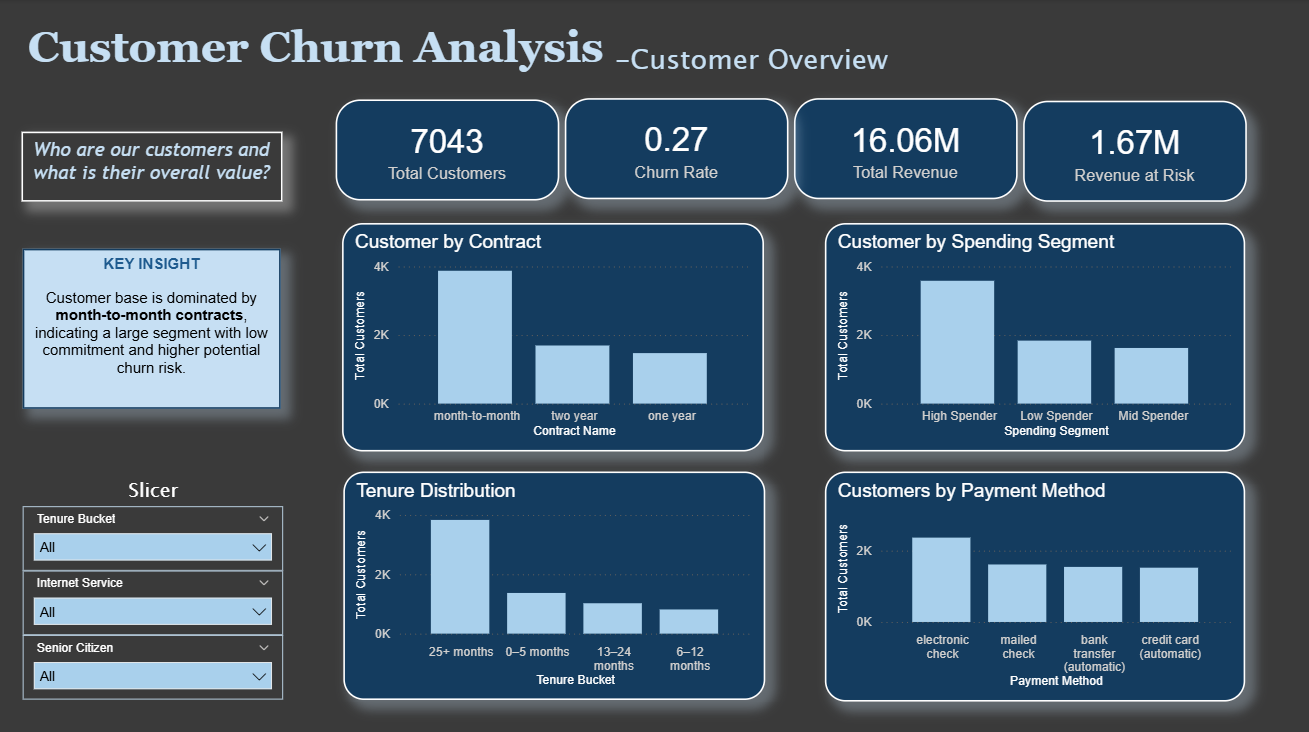

Layout of this report page (visuals, bound fields, positions):
{"tool":"powerbi","page":{"name":"Customer Overview","canvas":[1280,720],"ordinal":0},"visuals":[{"type":"textbox","box":[24.7,18.2,871.4,79.2],"z":0},{"type":"card","fields":{"Values":["public churn_dashboard_dataset.Total Revenue"]},"box":[777.8,97.3,218,98.5],"z":1000},{"type":"card","fields":{"Values":["public churn_dashboard_dataset.Total Customers"]},"box":[330.8,97.6,218,98.5],"z":2000},{"type":"card","fields":{"Values":["public churn_dashboard_dataset.Churn Rate"]},"box":[554.1,96.7,218,98.3],"z":3000},{"type":"card","fields":{"Values":["public churn_dashboard_dataset.Revenue at Risk"]},"box":[1000.5,98.8,218,98.5],"z":4000},{"type":"clusteredColumnChart","title":"Customer by Contract","fields":{"Category":["public churn_dashboard_dataset.contract_name"],"Y":["public churn_dashboard_dataset.Total Customers"]},"box":[336.1,218,411.5,223],"z":5000},{"type":"clusteredColumnChart","title":"Customer by Spending Segment","fields":{"Y":["public churn_dashboard_dataset.Total Customers"],"Category":["public churn_dashboard_dataset.spending_segment"]},"box":[808.2,218,409.8,223],"z":6000},{"type":"clusteredColumnChart","title":"Customers by Payment Method","fields":{"Category":["public churn_dashboard_dataset.payment_name"],"Y":["public churn_dashboard_dataset.Total Customers"]},"box":[808.2,460.7,409.8,224.6],"z":7000},{"type":"clusteredColumnChart","title":"Tenure Distribution","fields":{"Category":["public churn_dashboard_dataset.tenure_bucket"],"Y":["public churn_dashboard_dataset.Total Customers"]},"box":[337.7,460.7,411.5,222.9],"z":8000},{"type":"textbox","box":[24.2,128.8,254.5,68.2],"z":9000},{"type":"textbox","box":[25.3,244,252,156],"z":10000},{"type":"textbox","box":[25.1,460.6,255,42.7],"z":11000},{"type":"slicer","title":"Risk Level","fields":{"Values":["public churn_dashboard_dataset.tenure_bucket"]},"box":[25.1,494.5,253.7,62.7],"z":12000},{"type":"slicer","title":"Risk Level","fields":{"Values":["public churn_dashboard_dataset.internet_service"]},"box":[25.1,557.7,253.7,62.8],"z":13000},{"type":"slicer","title":"Risk Level","fields":{"Values":["public churn_dashboard_dataset.senior_citizen"]},"box":[25.1,620.5,253.7,62.8],"z":14000}]}

Visuals, with their boxes in screenshot pixels (x1, y1, x2, y2), scaled from the page's 1280x720 canvas onto the 1309x732 screenshot:
textbox: Rect(25, 19, 916, 99)
card - public churn_dashboard_dataset.Total Revenue: Rect(795, 99, 1018, 199)
card - public churn_dashboard_dataset.Total Customers: Rect(338, 99, 561, 199)
card - public churn_dashboard_dataset.Churn Rate: Rect(567, 98, 790, 198)
card - public churn_dashboard_dataset.Revenue at Risk: Rect(1023, 100, 1246, 201)
"Customer by Contract" clusteredColumnChart: Rect(344, 222, 765, 448)
"Customer by Spending Segment" clusteredColumnChart: Rect(827, 222, 1246, 448)
"Customers by Payment Method" clusteredColumnChart: Rect(827, 468, 1246, 697)
"Tenure Distribution" clusteredColumnChart: Rect(345, 468, 766, 695)
textbox: Rect(25, 131, 285, 200)
textbox: Rect(26, 248, 284, 407)
textbox: Rect(26, 468, 286, 512)
"Risk Level" slicer: Rect(26, 503, 285, 566)
"Risk Level" slicer: Rect(26, 567, 285, 631)
"Risk Level" slicer: Rect(26, 631, 285, 695)
